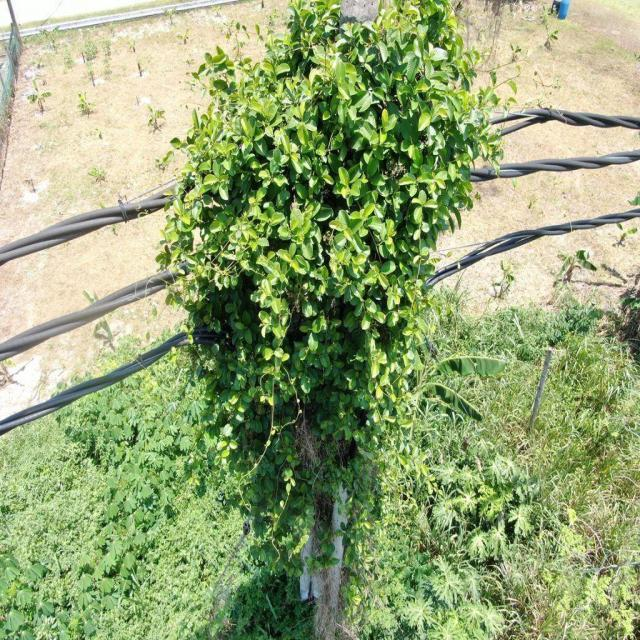critical vegetation: (168, 5, 478, 558)
